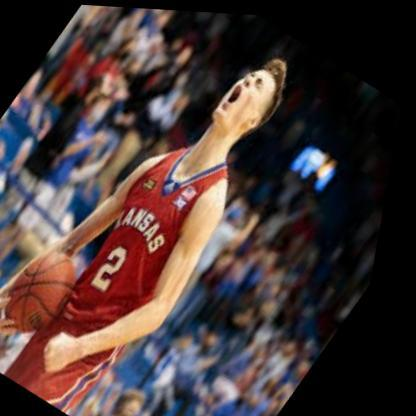basketball: (0, 237, 103, 347)
